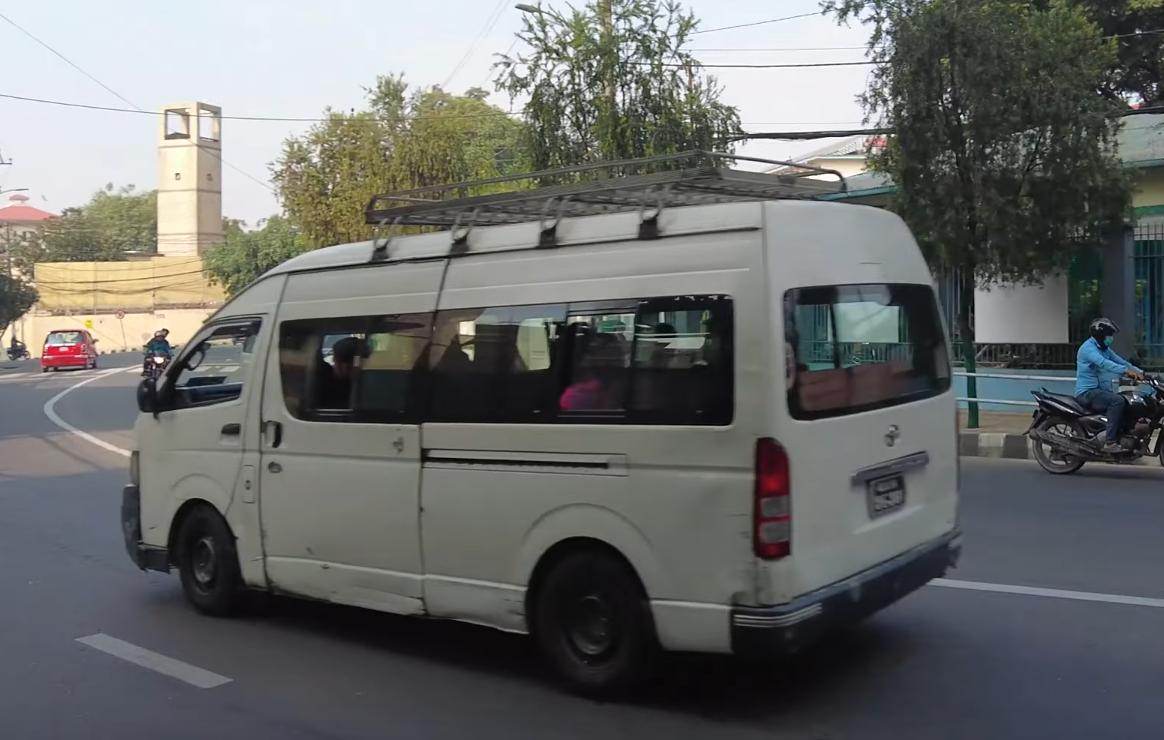bike: (1022, 373, 1164, 479), (139, 343, 174, 390)
car: (39, 324, 103, 374)
micro_bus: (104, 192, 971, 706)
